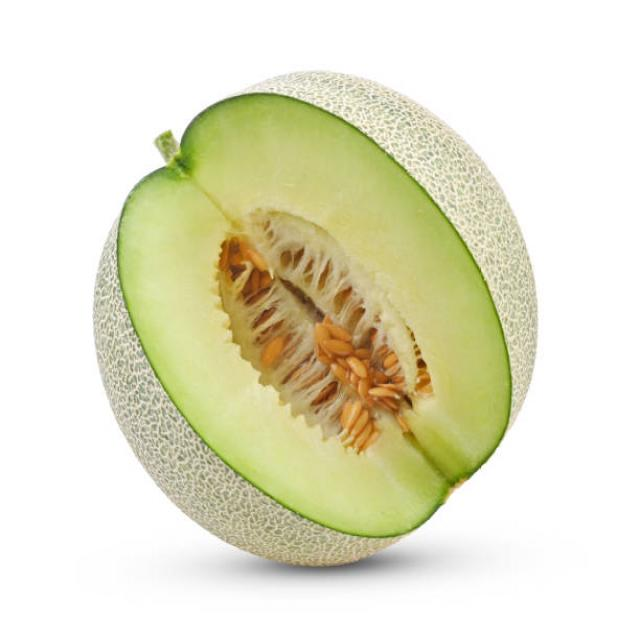Melon: (86, 62, 546, 579)
